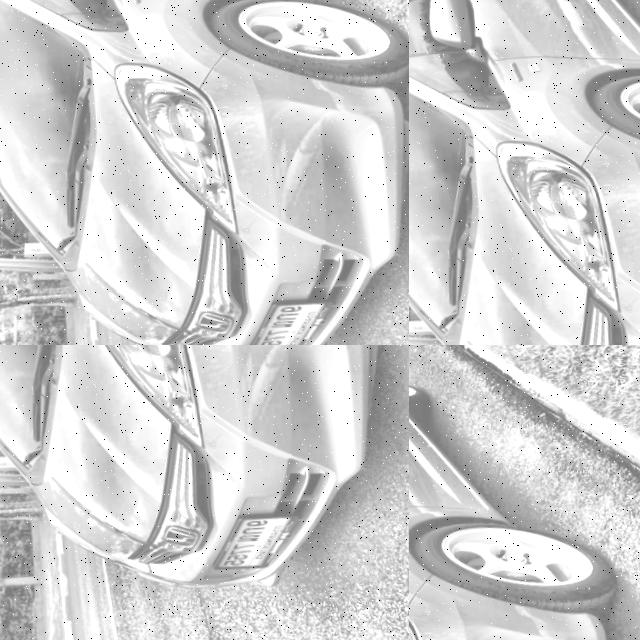license-plate: (263, 345, 372, 396)
